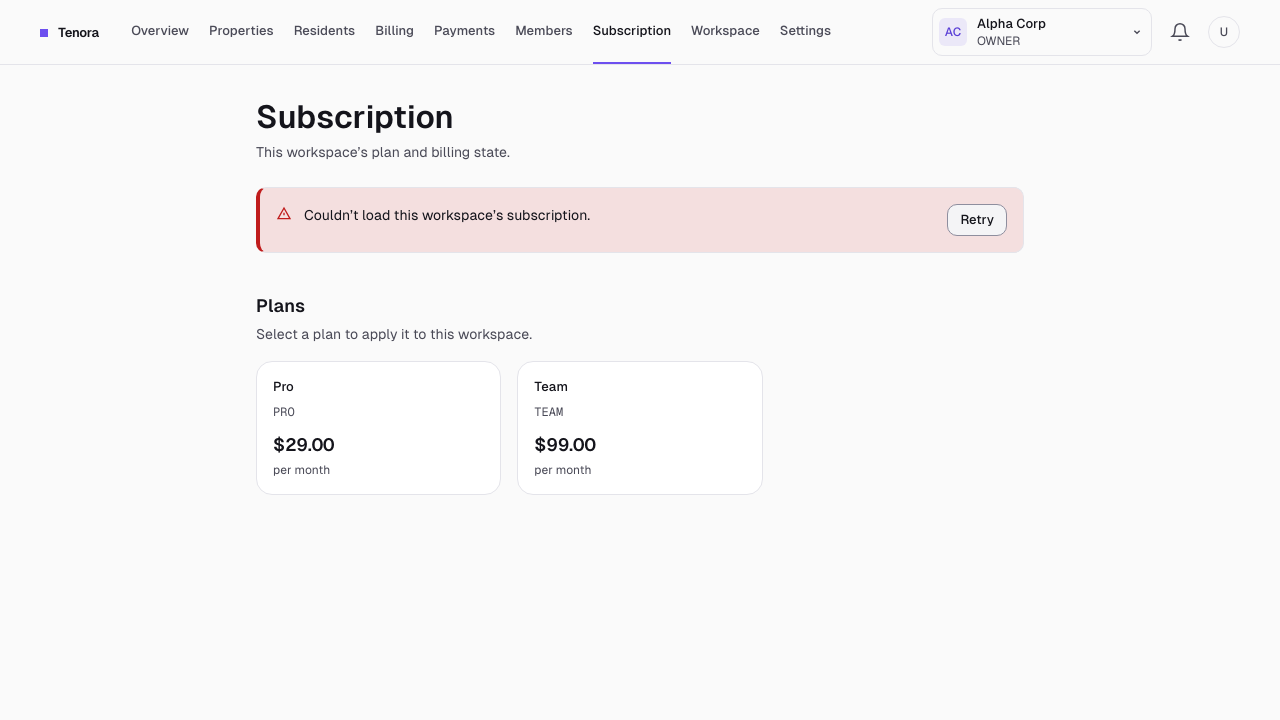
Test case: SubscriptionPage — current subscription panel › shows a retry panel for a genuine failure, distinct from the 404 empty state
Check: the text "Couldn’t load this workspace’s subscription." is shown, box left=304, top=207, right=590, bottom=223
Click the button "Retry": (977, 220) left=947, top=204, right=1007, bottom=236
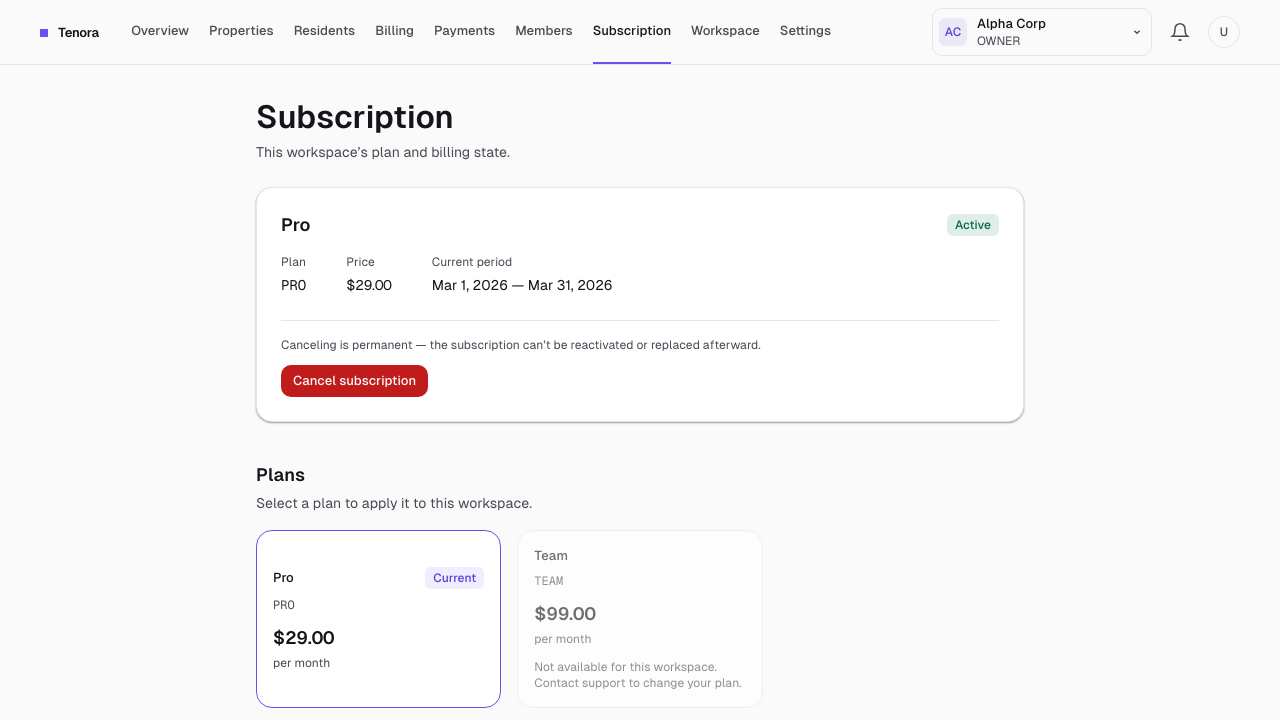
Check: the text "PRO" in the row of "Mar 1, 2026" is shown, box left=281, top=276, right=306, bottom=294
